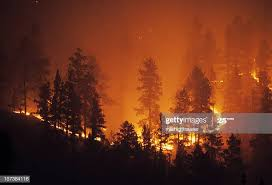fire: (245, 66, 263, 85), (162, 136, 177, 156), (133, 122, 144, 142)
smoke: (6, 6, 64, 78), (184, 23, 258, 79)
